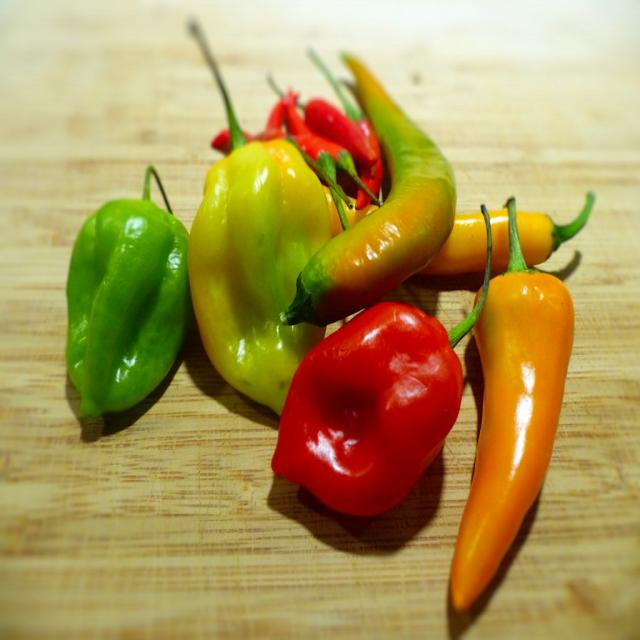chilli: (453, 270, 576, 619)
